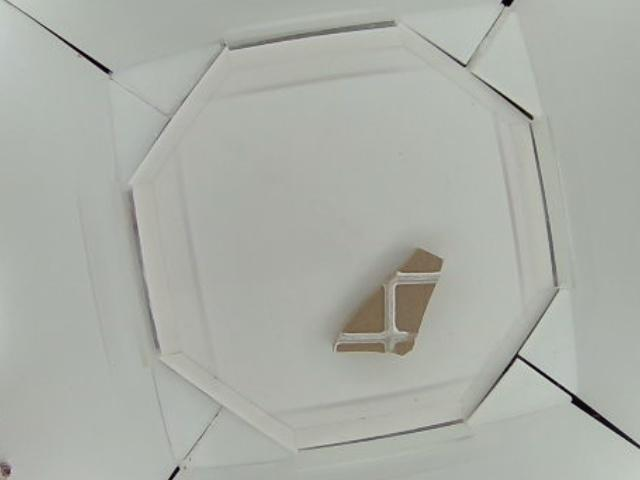China: (337, 249, 445, 356)
